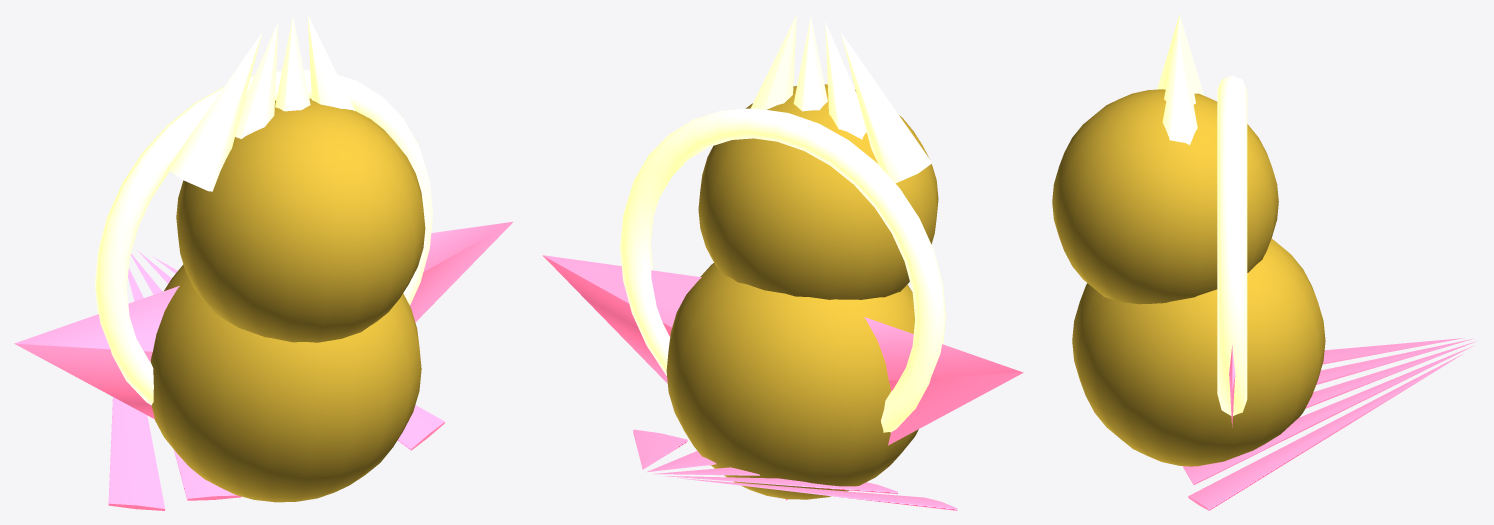
The model's file is solas_stage2.glb.
3 renders of one model, left to right at view 1: azimuth 30°, elevation 25°; view 2: azimuth 150°, elevation 25°; view 3: azimuth 270°, elevation 25°, orthographic. The views are drawn at different scales.
Parts seen in each view (by area): view 1: Head, Body, Solas_S2; view 2: Body, Head, Solas_S2; view 3: Body, Head, Solas_S2.
Part boxes in pixels (x1=…): Head: x1=167, y1=14, x2=425, y2=342; Body: x1=95, y1=70, x2=432, y2=502; Solas_S2: x1=14, y1=221, x2=513, y2=510; Body: x1=620, y1=108, x2=945, y2=499; Head: x1=698, y1=15, x2=938, y2=299; Solas_S2: x1=542, y1=255, x2=1023, y2=510; Body: x1=1072, y1=75, x2=1325, y2=466; Head: x1=1052, y1=14, x2=1278, y2=304; Solas_S2: x1=1182, y1=338, x2=1477, y2=510.
Bounding box in the file's own units: 1.85 × 1.71 × 1.51.
